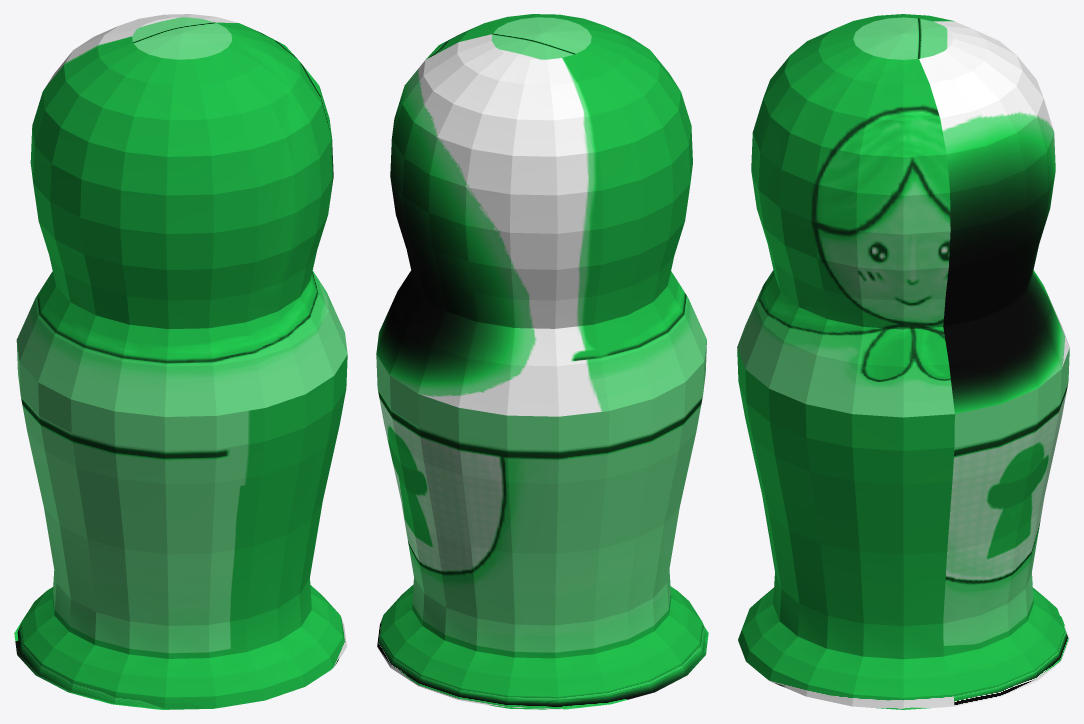
File: betterDoll.obj
3 renders of one model, left to right at view 1: azimuth 30°, elevation 25°; view 2: azimuth 150°, elevation 25°; view 3: azimuth 270°, elevation 25°, orthographic.
Parts seen in each view (by area): view 1: doll.001; view 2: doll.001, doll.002; view 3: doll.001.
Boxes of the visible parts, x1,y1,x2,y2 form: doll.001: (16,14,347,709); doll.001: (376,14,706,708); doll.002: (422,626,708,709); doll.001: (737,14,1069,709).
Size of the model in its own units: 0.9986 by 1.99 by 0.9913.
